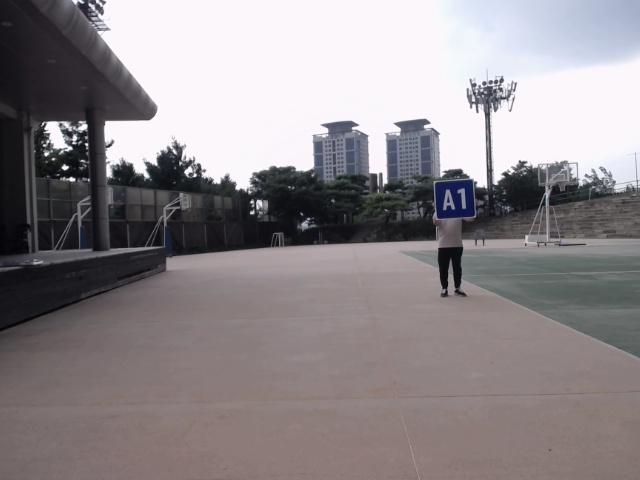delivery_a1: (434, 179, 476, 219)
